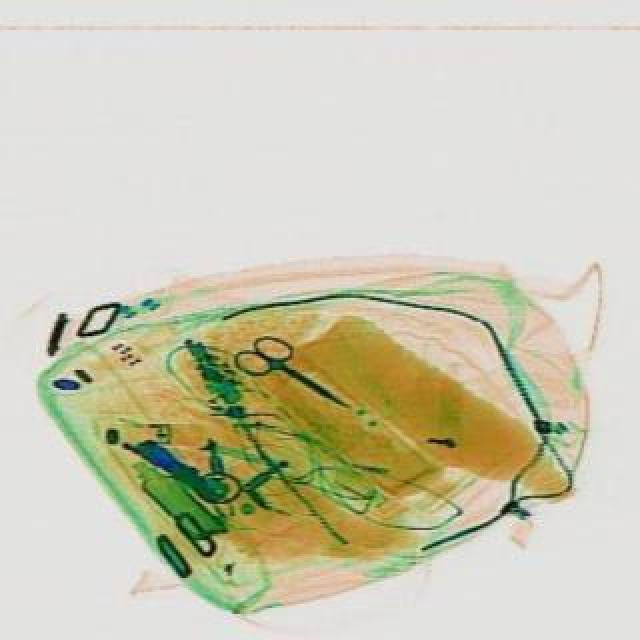pliers: (226, 324, 362, 428)
